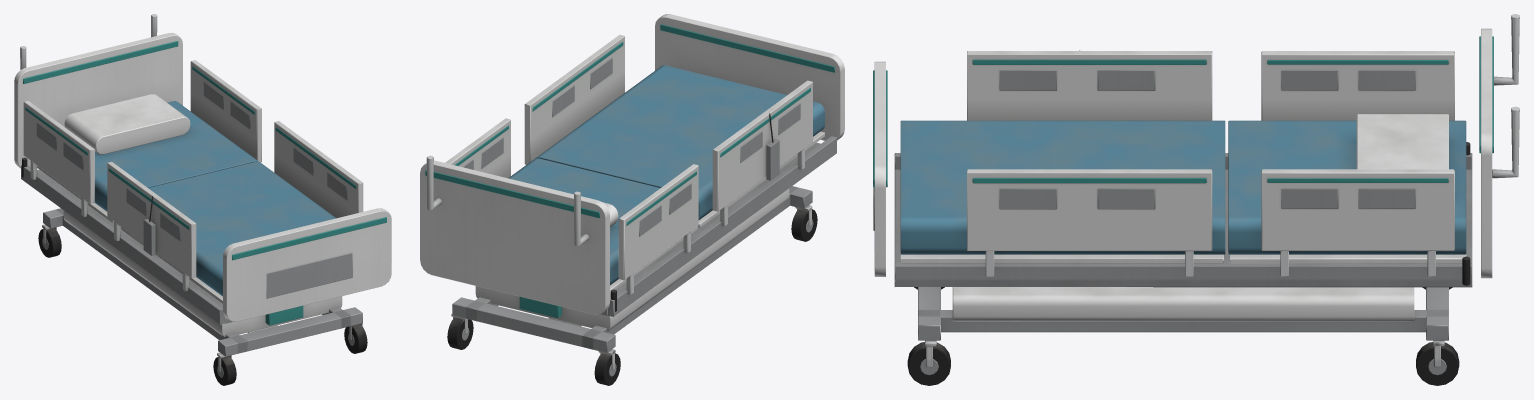
The model's file is HospitalBed.fbx.
3 views of the same model, side by side, from view 1: azimuth 30°, elevation 25°; view 2: azimuth 150°, elevation 25°; view 3: azimuth 270°, elevation 25° (orthographic). The views are drawn at different scales.
Visible parts, largest first — view 1: Lift_LOD0, Backrest_LOD0, Body_LOD0; view 2: Lift_LOD0, Backrest_LOD0, Body_LOD0; view 3: Lift_LOD0, Backrest_LOD0, Body_LOD0.
Boxes of the visible parts, bbox=[...] form: Lift_LOD0: bbox=[14, 14, 391, 332]; Backrest_LOD0: bbox=[23, 60, 261, 223]; Body_LOD0: bbox=[38, 208, 367, 385]; Lift_LOD0: bbox=[420, 14, 844, 326]; Backrest_LOD0: bbox=[445, 118, 698, 294]; Body_LOD0: bbox=[447, 186, 817, 385]; Lift_LOD0: bbox=[873, 14, 1519, 287]; Backrest_LOD0: bbox=[1228, 51, 1466, 276]; Body_LOD0: bbox=[907, 287, 1459, 385].
Size of what is drawn, in the model's own units: 1.03 by 1.05 by 2.24.
1 material, 1 textured.
